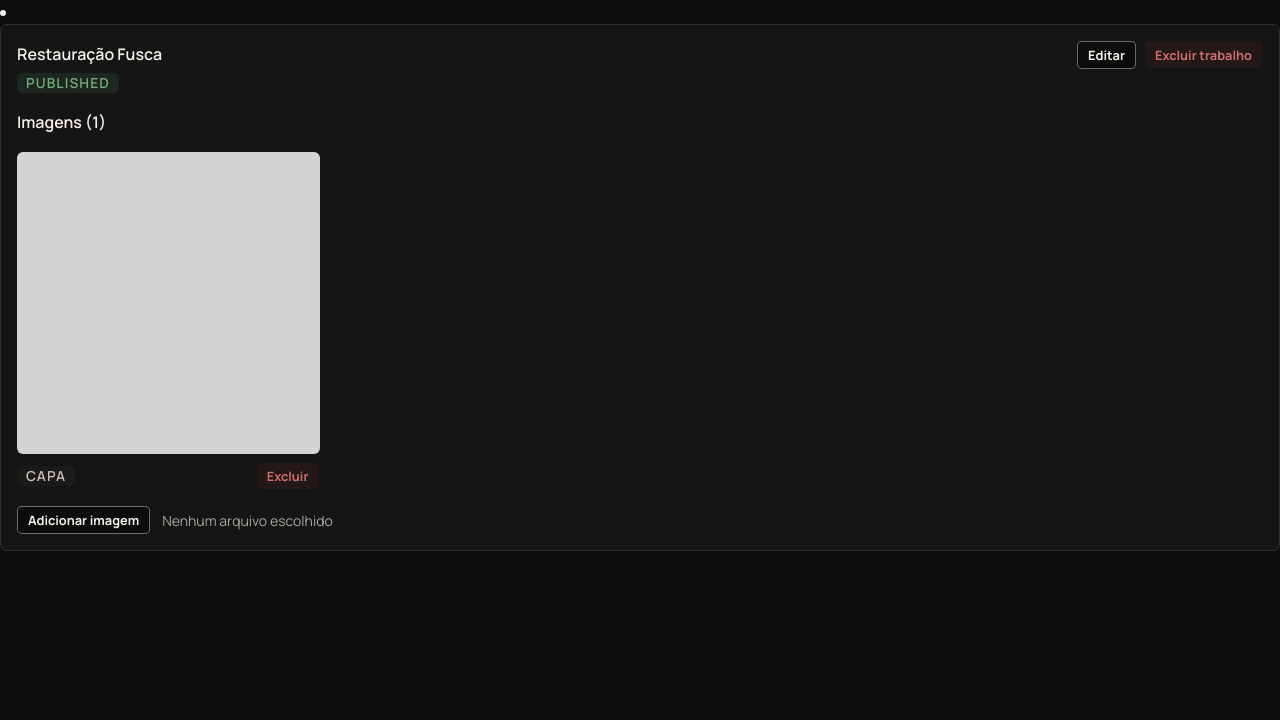
Test case: WorkListItem › devolve o foco ao botão 'Excluir' ao cancelar ou fechar com Esc o diálogo de remoção
The width and height of the screenshot is (1280, 720).
Click the button with aria-label "Excluir imagem 1: Banco restaurado": (288, 476) [256, 462, 320, 490]
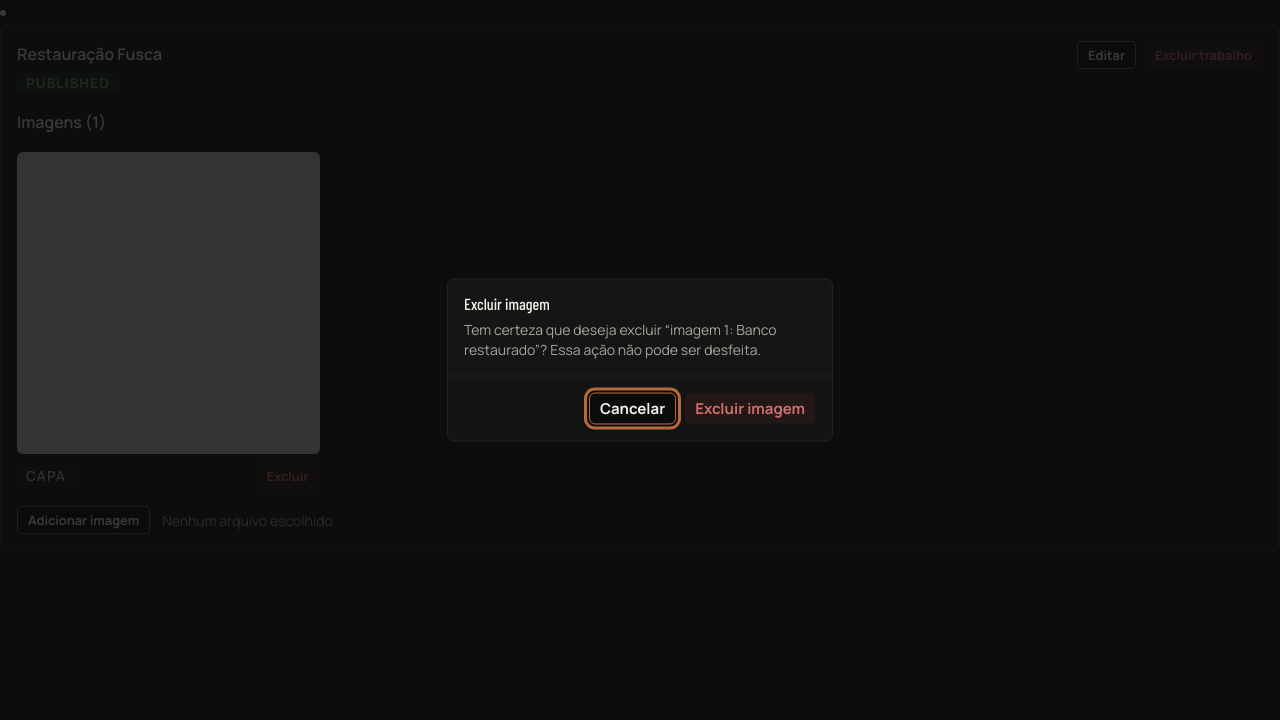
Click the button "Cancelar": (633, 408) [589, 392, 676, 424]
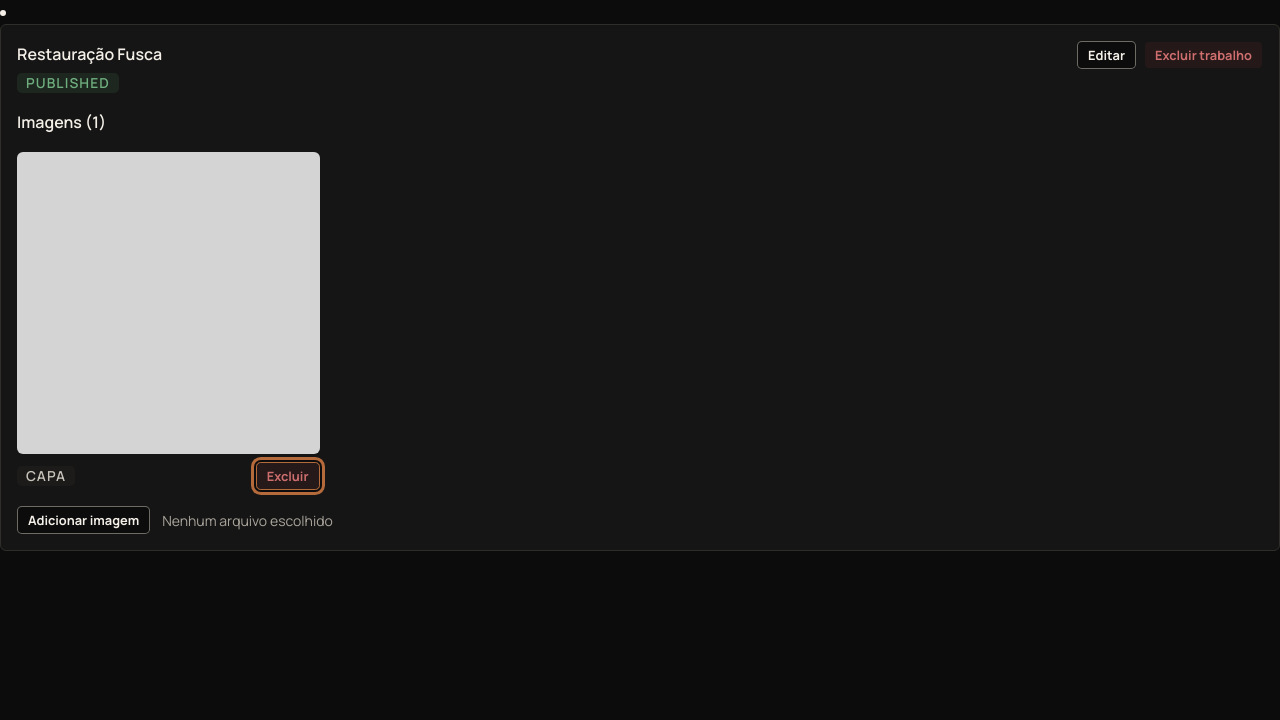
Expected: the heading "Excluir imagem" is gone
Click the button with aria-label "Excluir imagem 1: Banco restaurado": (288, 476) [256, 462, 320, 490]
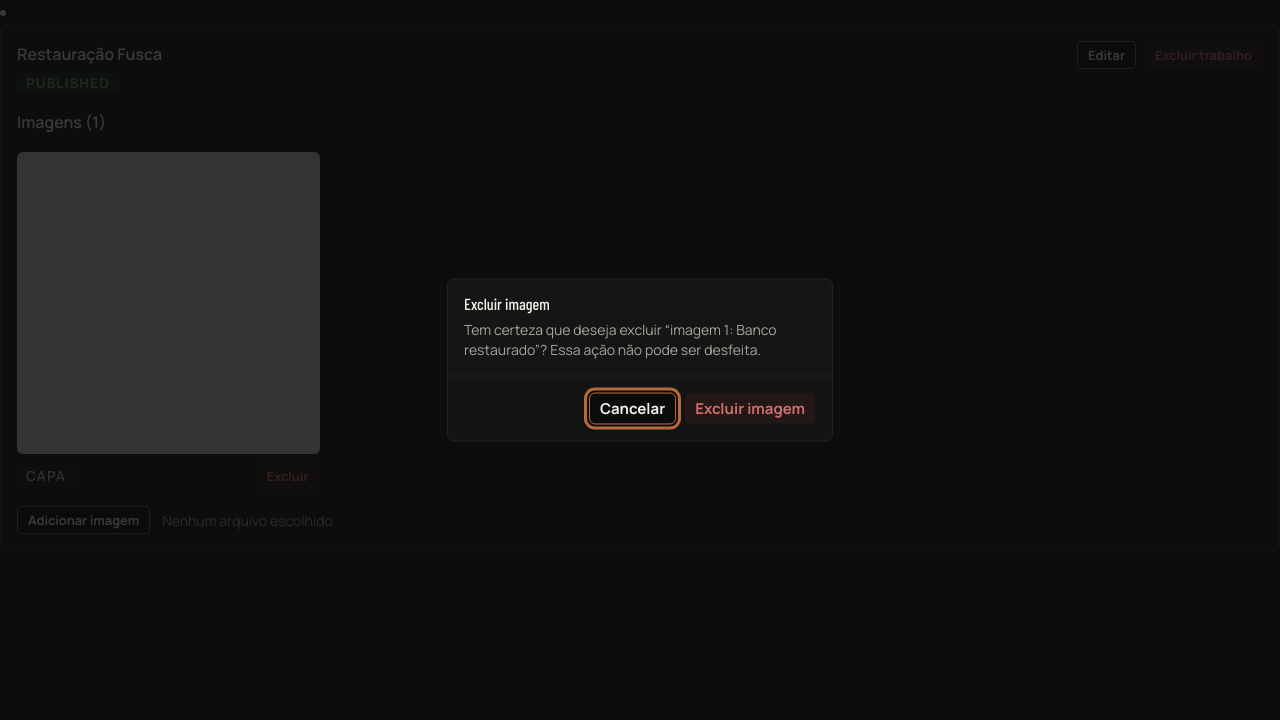
Expected: the heading "Excluir imagem" is shown, [464, 294, 550, 312]
Press Escape
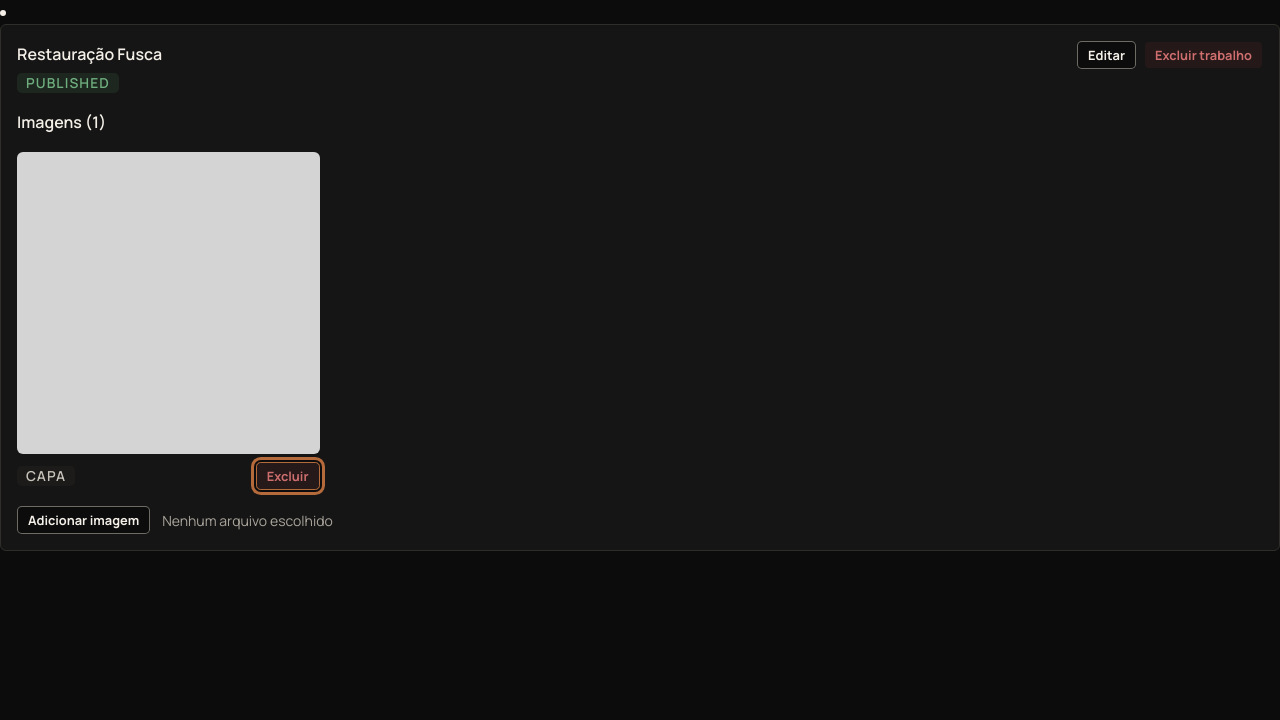
Expected: the heading "Excluir imagem" is gone
